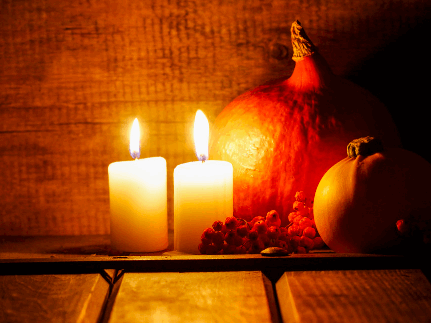Fire: (178, 104, 224, 164), (120, 114, 155, 168)
